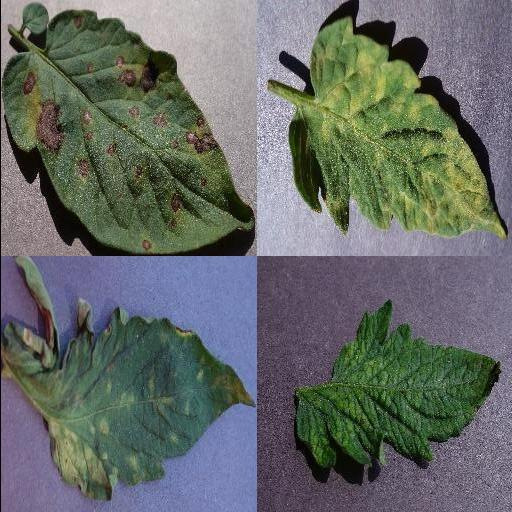Early Blight: (0, 10, 254, 255)
Leaf Mold: (0, 299, 256, 503), (286, 18, 506, 236)
Mosaic Virus: (293, 297, 503, 471)
